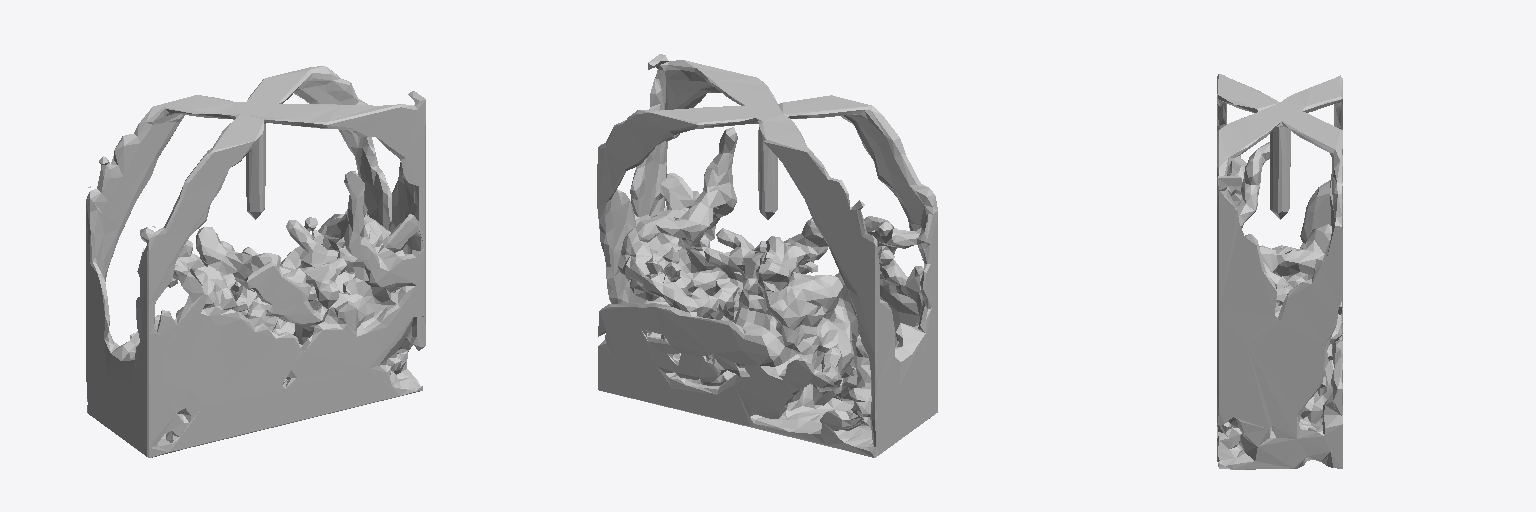
The picture shows the model from 3 angles: view 1: azimuth 30°, elevation 25°; view 2: azimuth 150°, elevation 25°; view 3: azimuth 270°, elevation 25°; orthographic projection.
Parts seen in each view (by area): view 1: Liquid_Domain; view 2: Liquid_Domain; view 3: Liquid_Domain.
Part boxes in pixels (x1,y1,x2,y2): Liquid_Domain: (86,66,425,457); Liquid_Domain: (597,54,937,457); Liquid_Domain: (1217,74,1342,469).
Bounding box in the file's own units: 884 × 885 × 345.